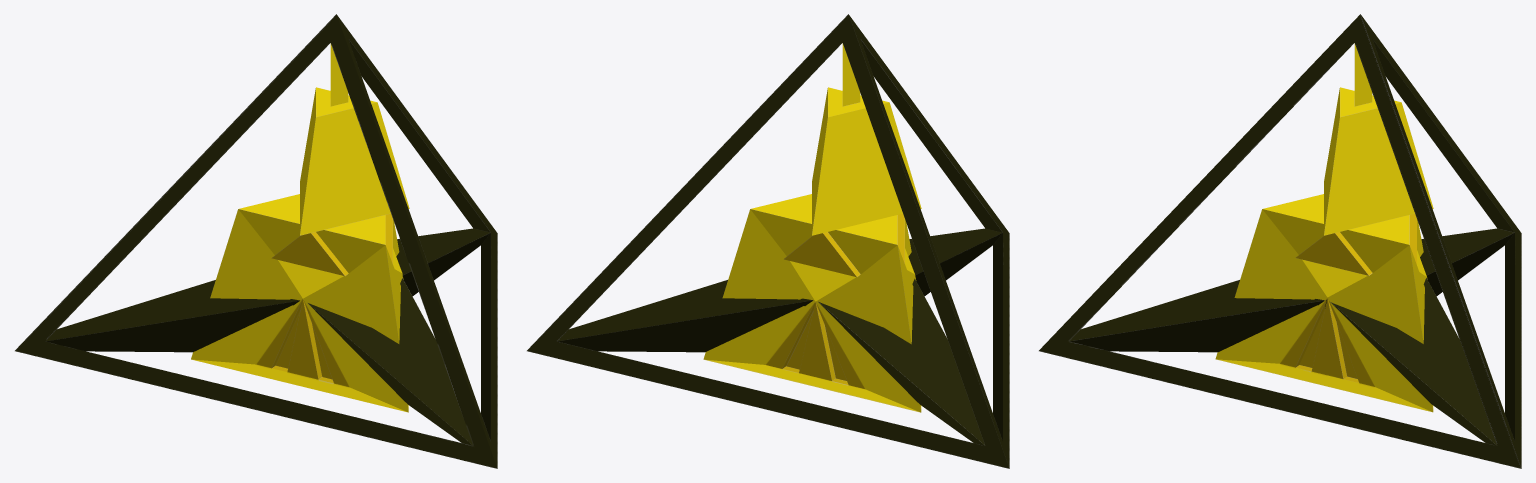
File: TriangleSettlement.fbx
3 views of the same model, side by side, from view 1: azimuth 30°, elevation 25°; view 2: azimuth 150°, elevation 25°; view 3: azimuth 270°, elevation 25° (orthographic).
Visible parts, largest first — view 1: Sphere; view 2: Sphere; view 3: Sphere.
Boxes of the visible parts, x1,y1,x2,y2 form: Sphere: (15,14,497,468); Sphere: (527,14,1009,468); Sphere: (1039,14,1521,468).
Size of the model in its own units: 3000 by 2050 by 2598.
